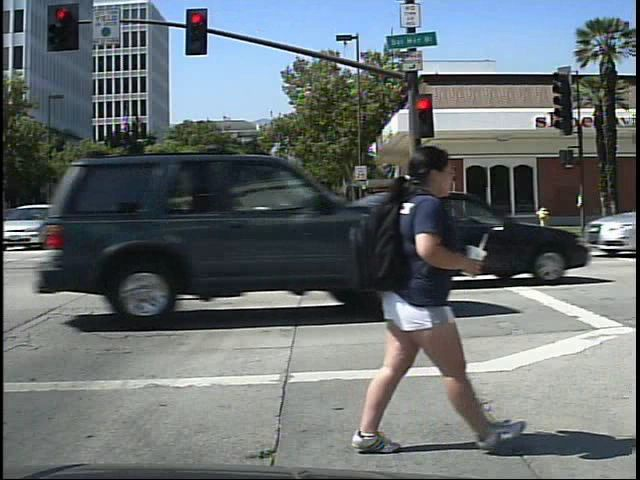person: (325, 131, 496, 459)
